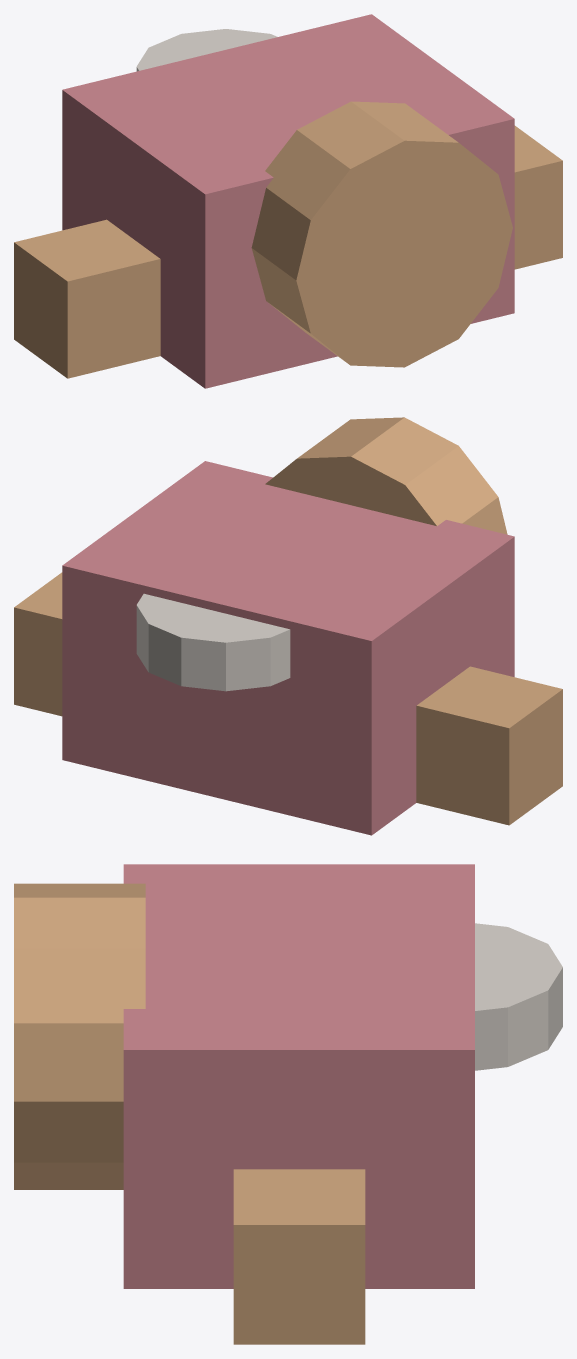
The model's file is pets_roupinha.glb.
3 views of the same model, one above another, from view 1: azimuth 30°, elevation 25°; view 2: azimuth 150°, elevation 25°; view 3: azimuth 270°, elevation 25° (orthographic). The views are drawn at different scales.
Parts seen in each view (by area): view 1: PETS_ROUPINHA_v01; view 2: PETS_ROUPINHA_v01; view 3: PETS_ROUPINHA_v01.
Boxes of the visible parts, x1,y1,x2,y2 form: PETS_ROUPINHA_v01: (14,14,562,388); PETS_ROUPINHA_v01: (14,417,562,835); PETS_ROUPINHA_v01: (14,864,562,1344).
Bounding box in the file's own units: 0.32 × 0.15 × 0.25.
